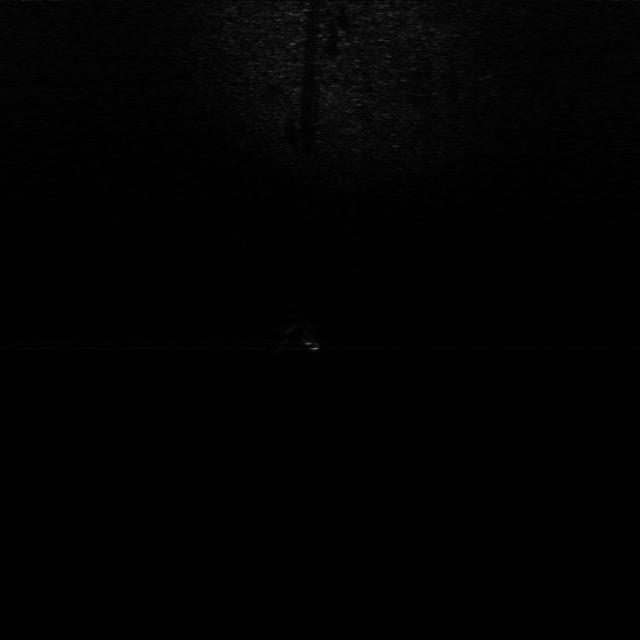human body: (263, 316, 337, 364)
